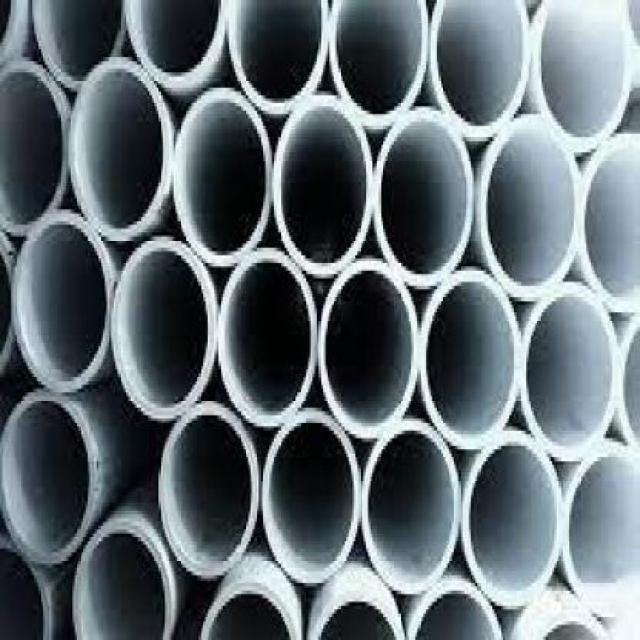pipe: (112, 238, 218, 419), (480, 114, 583, 299), (68, 57, 171, 240), (420, 269, 522, 451), (13, 211, 113, 394), (373, 107, 473, 289), (275, 93, 373, 276), (318, 258, 417, 438), (464, 430, 563, 609), (173, 89, 273, 265), (158, 402, 259, 576), (218, 249, 317, 426), (522, 281, 619, 460), (363, 419, 461, 593), (261, 413, 361, 582), (0, 394, 95, 563), (535, 0, 633, 152), (431, 0, 530, 138), (0, 57, 71, 240), (331, 1, 430, 129), (564, 451, 640, 617), (72, 518, 174, 637), (577, 133, 640, 313), (229, 0, 329, 111), (126, 0, 225, 89), (33, 0, 126, 89), (199, 583, 301, 640), (408, 587, 503, 640), (0, 544, 51, 640), (311, 595, 404, 640), (612, 317, 640, 452), (533, 617, 613, 640)
